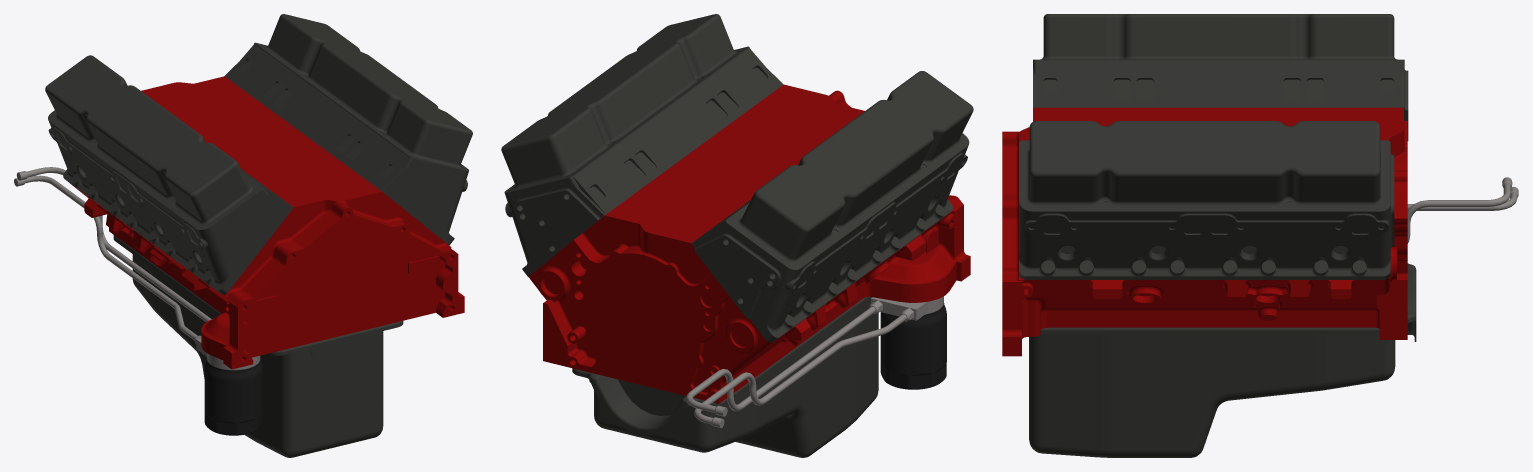
Rendered from EngineBlockModel.fbx.
The picture shows the model from 3 angles, left to right: view 1: azimuth 30°, elevation 25°; view 2: azimuth 150°, elevation 25°; view 3: azimuth 270°, elevation 25°; orthographic projection. The views are drawn at different scales.
Visible parts, largest first — view 1: Imported1 (×6), Imported6, Imported5; view 2: Imported1 (×6), Imported5, Imported6; view 3: Imported1 (×6), Imported5.
Boxes of the visible parts, x1,y1,x2,y2 form: Imported1 (×6): (45, 14, 472, 457); Imported6: (204, 358, 262, 435); Imported5: (14, 167, 260, 370); Imported1 (×6): (501, 14, 973, 457); Imported5: (686, 296, 943, 428); Imported6: (880, 303, 946, 389); Imported1 (×6): (1002, 14, 1416, 457); Imported5: (1407, 177, 1518, 243).
Size of the model in its own units: 15.27 by 16.16 by 20.94.
